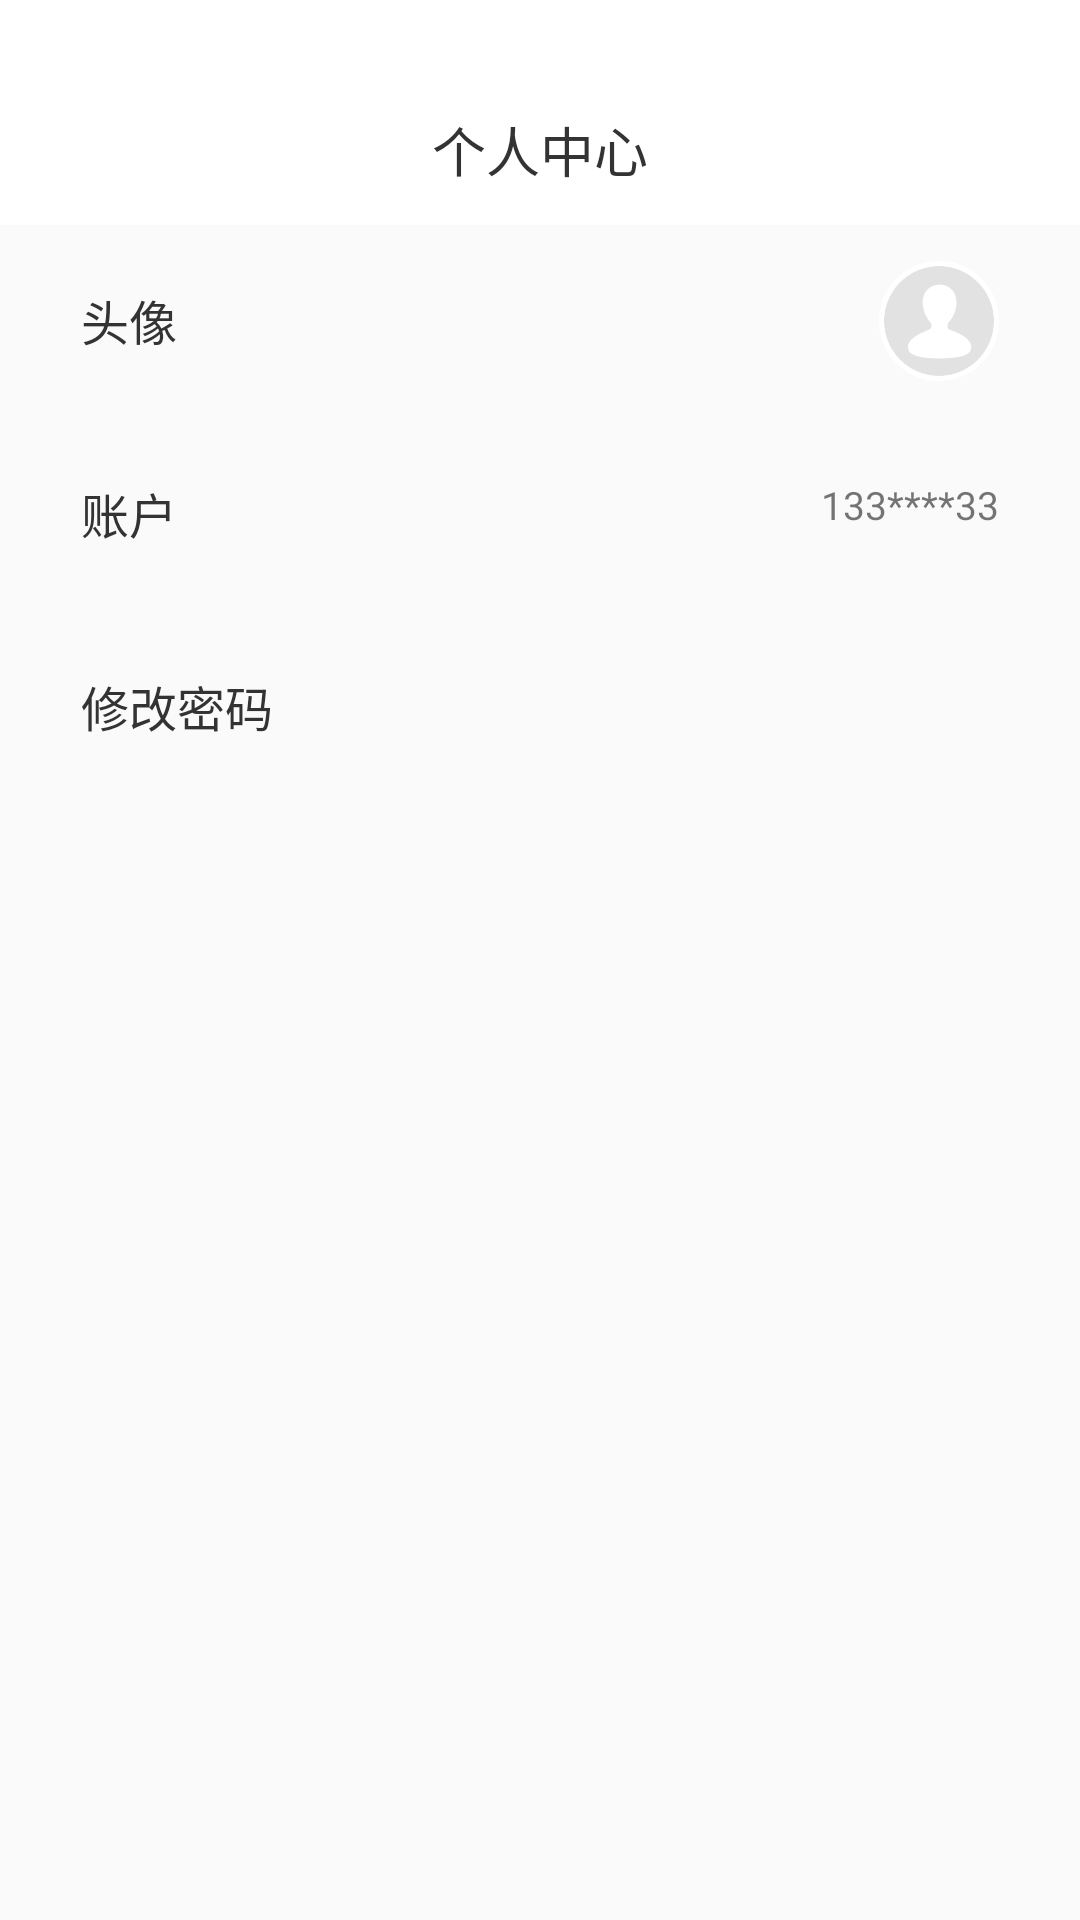

Named icons in this screenshot (1080w x 1920h) and their centers, point (x, y):
yh tx: point (939, 321)
